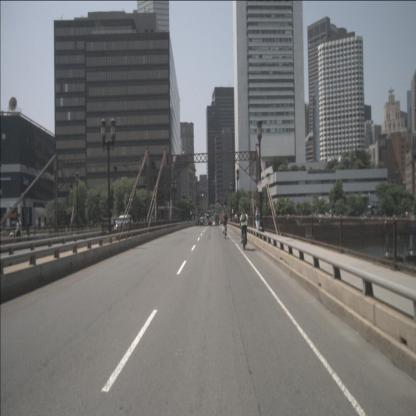human-pedestrian-adult: (255, 206, 260, 236), (234, 213, 238, 225)
vehicle-bicycle: (239, 210, 249, 250), (221, 212, 229, 240)
vehicle-car: (116, 214, 134, 233), (319, 216, 331, 224)
